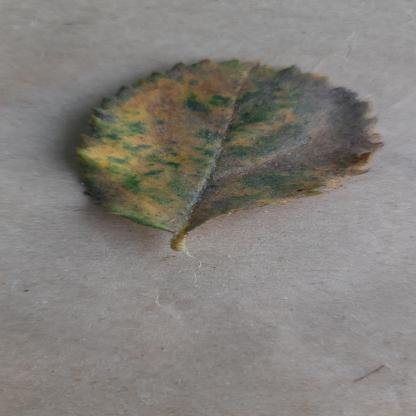black-spot: (48, 57, 388, 232)
